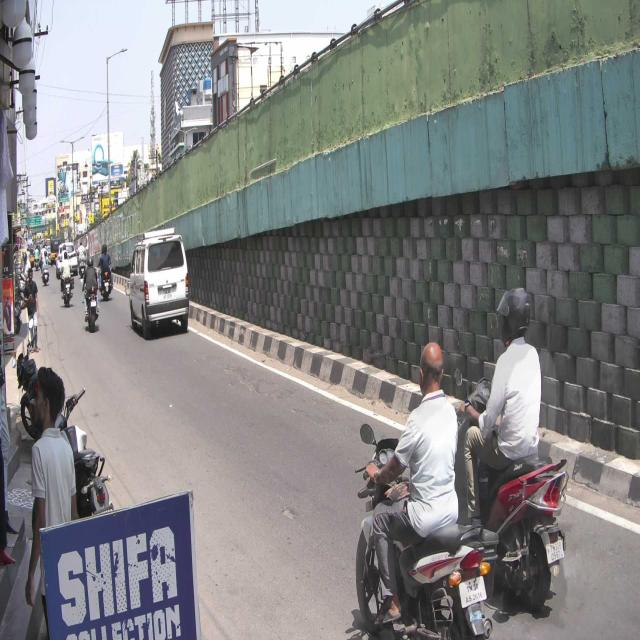single_rider: (469, 280, 572, 616), (354, 332, 463, 640)
